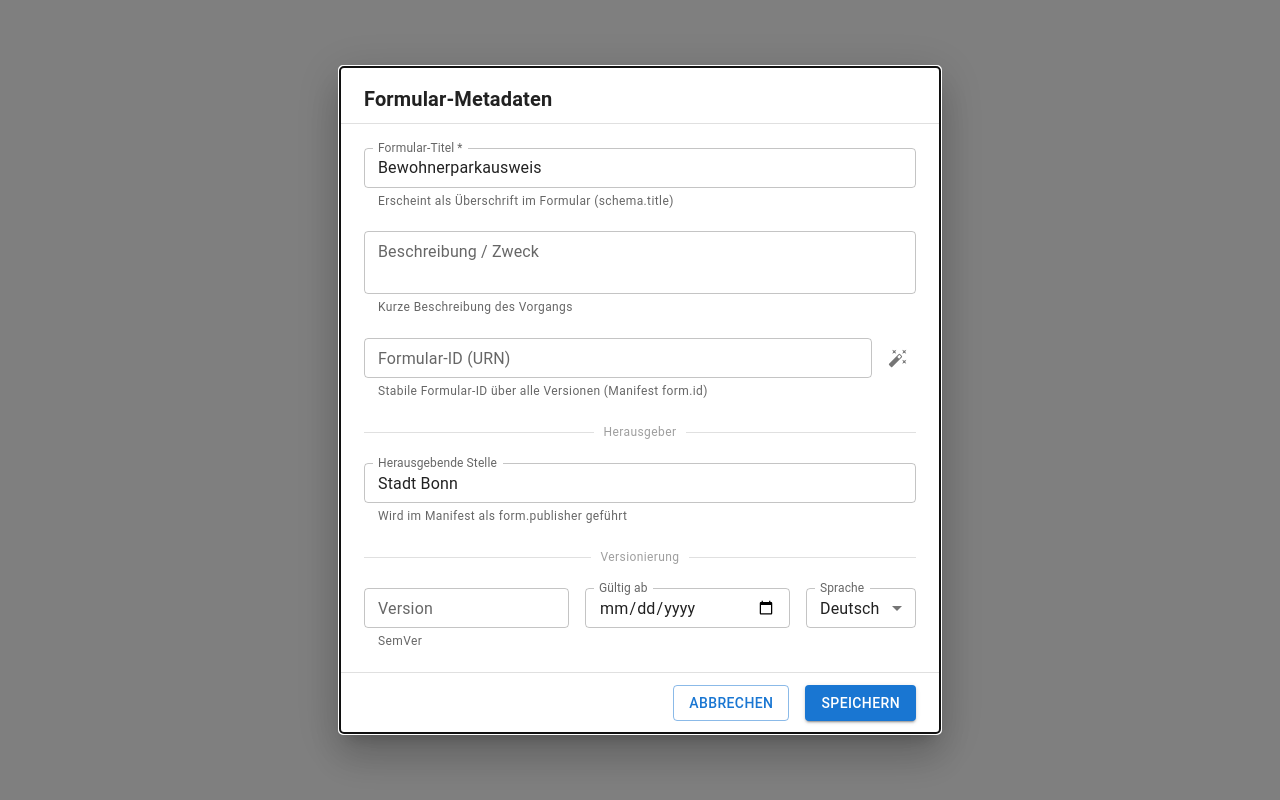
Test: MetadataDialog › erzeugt einen URN-Vorschlag aus Behörde und Titel und validiert das Muster
The width and height of the screenshot is (1280, 800).
Click the button named "URN-Vorschlag" at (898, 358), box top-left (880, 340), bottom-right (916, 376)
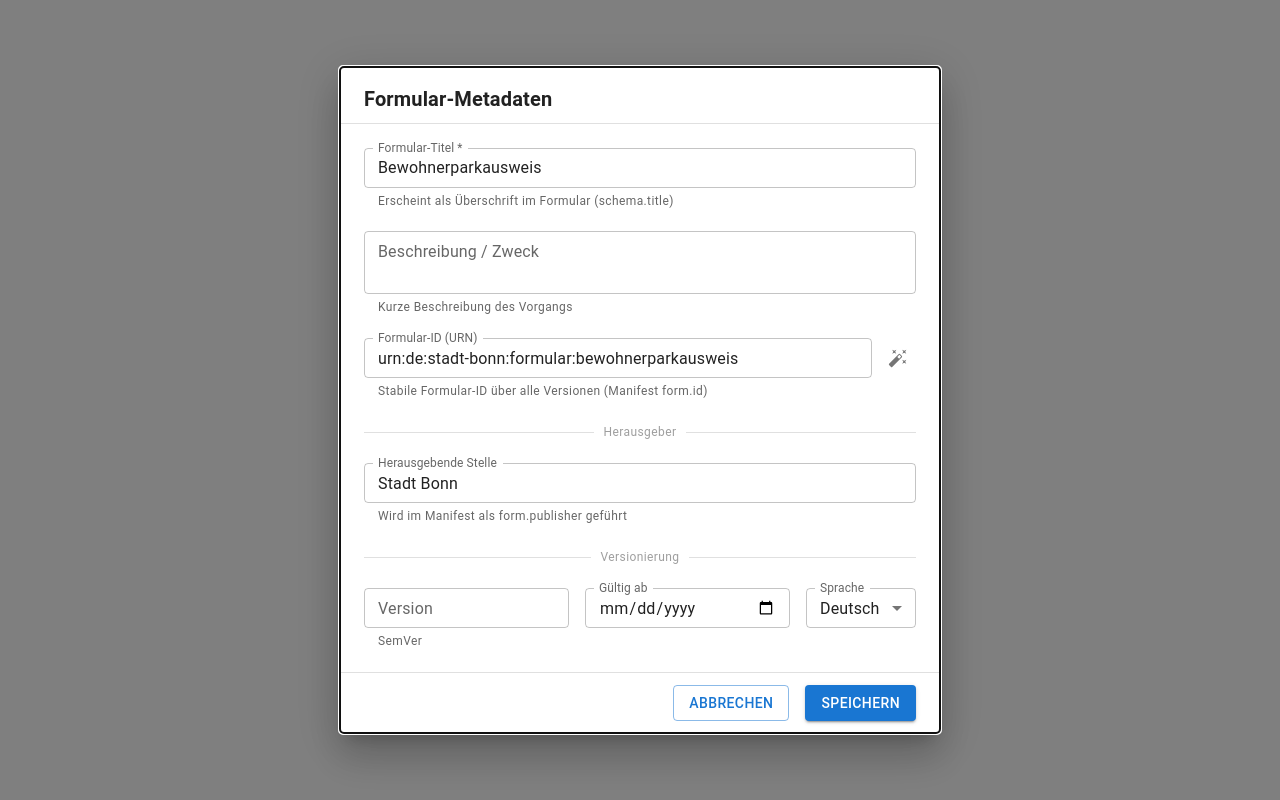
Expected: the field labelled "Formular-ID (URN)" holds "urn:de:stadt-bonn:formular:bewohnerparkausweis"
Replace the text in the field labelled "Formular-ID (URN)" with "keine-urn" at (618, 358), box top-left (364, 338), bottom-right (872, 378)
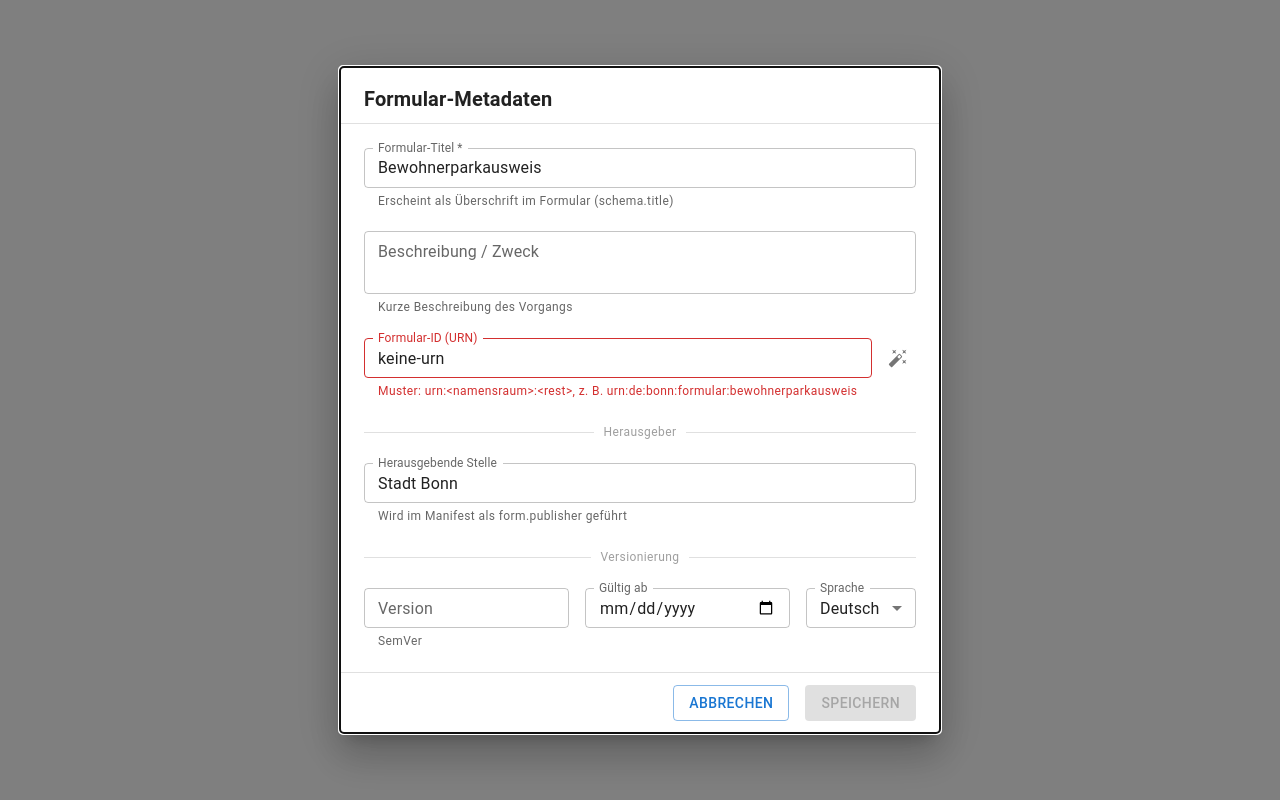
Expected: the button "Speichern" is disabled, top-left (805, 685), bottom-right (916, 721)
